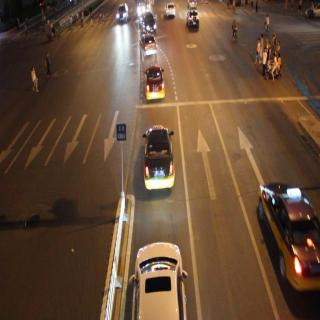Car: (253, 168, 320, 298), (134, 233, 187, 320), (137, 118, 177, 198), (134, 57, 170, 105), (136, 26, 156, 60), (137, 7, 159, 35), (115, 0, 133, 24), (185, 9, 201, 29), (164, 0, 175, 17)
